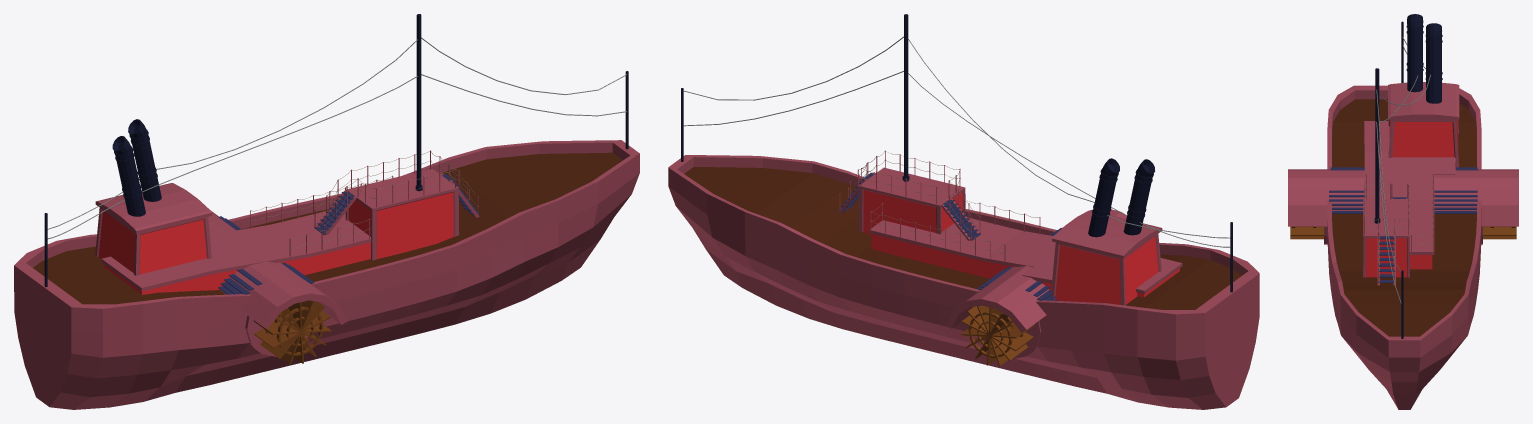
The model's file is HMS_Mozart.fbx.
3 views of the same model, side by side, from view 1: azimuth 30°, elevation 25°; view 2: azimuth 150°, elevation 25°; view 3: azimuth 270°, elevation 25° (orthographic). The views are drawn at different scales.
Parts seen in each view (by area): view 1: Boat, Cylinder.005; view 2: Boat, Cylinder.003; view 3: Boat, Cylinder.003, Cylinder.005.
Part boxes in pixels (x1,y1,x2,y2): Boat: (14, 14, 639, 409); Cylinder.005: (253, 300, 331, 364); Boat: (668, 14, 1259, 409); Cylinder.003: (960, 305, 1034, 366); Boat: (1288, 14, 1518, 409); Cylinder.003: (1483, 226, 1516, 239); Cylinder.005: (1290, 226, 1323, 239).
Bounding box in the file's own units: 3865 × 2073 × 1498.
